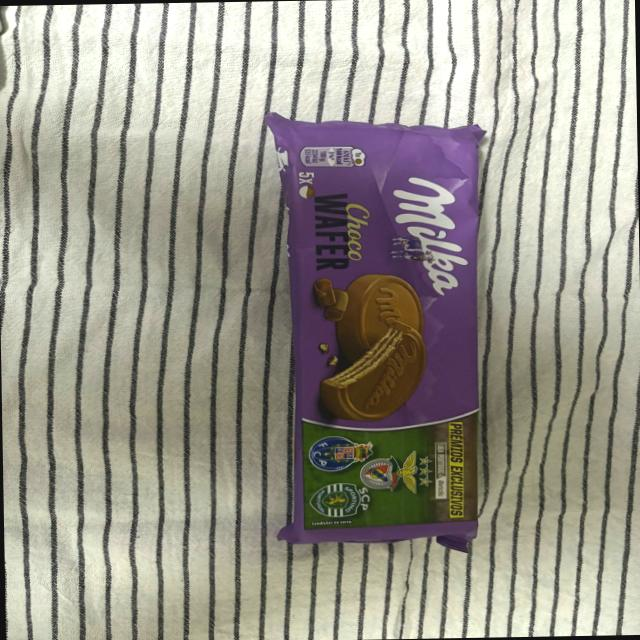good_package: (260, 106, 490, 557)
